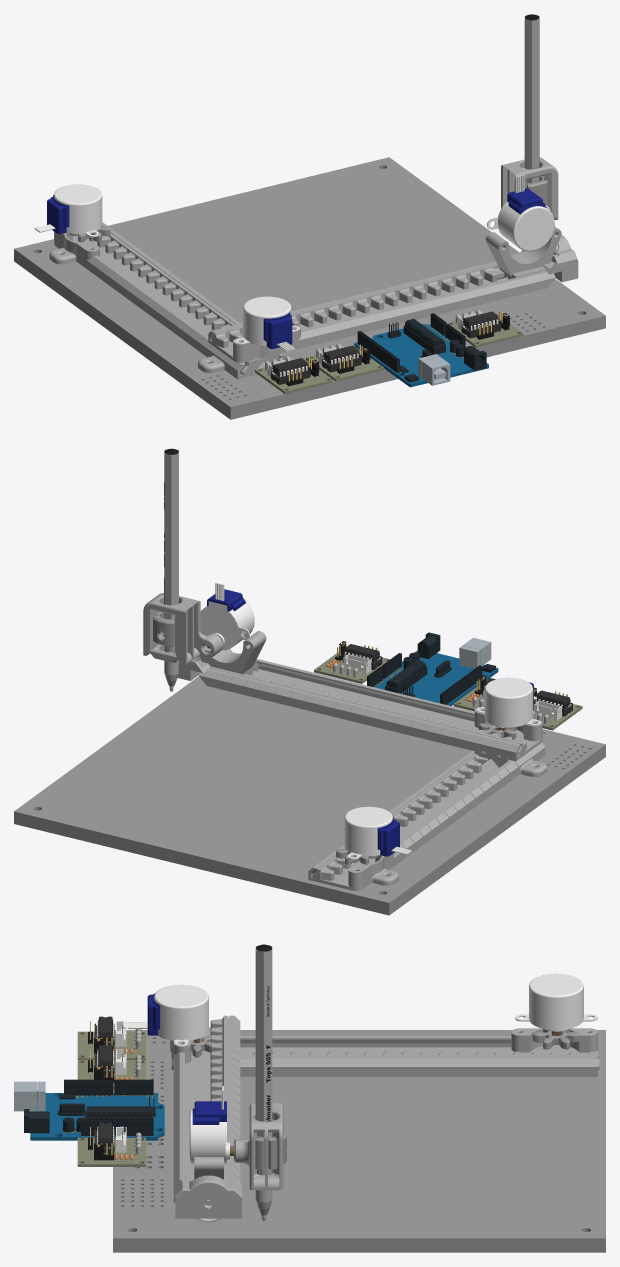
Rendered from aria-cnc.glb.
3 views of the same model, one above another, from view 1: azimuth 30°, elevation 25°; view 2: azimuth 150°, elevation 25°; view 3: azimuth 270°, elevation 25° (orthographic). The views are drawn at different scales.
Parts seen in each view (by area): view 1: part_000, part_618, part_616, part_619, part_617, uno_components, part_021, uno_pcb, part_010, part_016, part_005, part_612 (+8 smaller); view 2: part_000, part_618, part_616, part_612, uno_components, part_021, part_617, part_619, part_005, uno_pcb, part_016, part_010 (+4 smaller); view 3: part_000, part_616, part_618, uno_components, part_021, part_016, part_005, part_054, uno_pcb, part_612, part_619, part_010 (+9 smaller).
Boxes of the visible parts, x1,y1,x2,y2 form: part_000: [14, 157, 605, 419]; part_618: [208, 261, 555, 362]; part_616: [49, 222, 285, 379]; part_619: [212, 226, 561, 347]; part_617: [89, 233, 279, 375]; uno_components: [357, 313, 486, 382]; part_021: [524, 14, 539, 183]; uno_pcb: [354, 324, 488, 387]; part_010: [487, 201, 554, 251]; part_016: [54, 184, 102, 237]; part_005: [235, 296, 299, 345]; part_612: [501, 157, 558, 219]; part_000: [14, 676, 605, 915]; part_618: [198, 659, 542, 761]; part_616: [308, 743, 547, 890]; part_612: [143, 593, 222, 665]; uno_components: [367, 632, 495, 704]; part_021: [164, 448, 178, 681]; part_617: [312, 751, 509, 880]; part_619: [199, 631, 526, 755]; part_005: [476, 677, 541, 727]; uno_pcb: [374, 650, 498, 706]; part_016: [344, 806, 392, 859]; part_010: [200, 601, 254, 650]; part_000: [113, 1030, 605, 1252]; part_616: [240, 1028, 597, 1076]; part_618: [170, 1015, 240, 1202]; uno_components: [24, 1079, 155, 1135]; part_021: [255, 944, 272, 1209]; part_016: [515, 973, 597, 1031]; part_005: [154, 984, 209, 1045]; part_054: [175, 1175, 241, 1218]; uno_pcb: [30, 1093, 164, 1140]; part_612: [234, 1103, 283, 1190]; part_619: [185, 1015, 228, 1180]; part_010: [189, 1109, 229, 1164].
Bounding box in the file's own units: 259 × 169 × 300.
